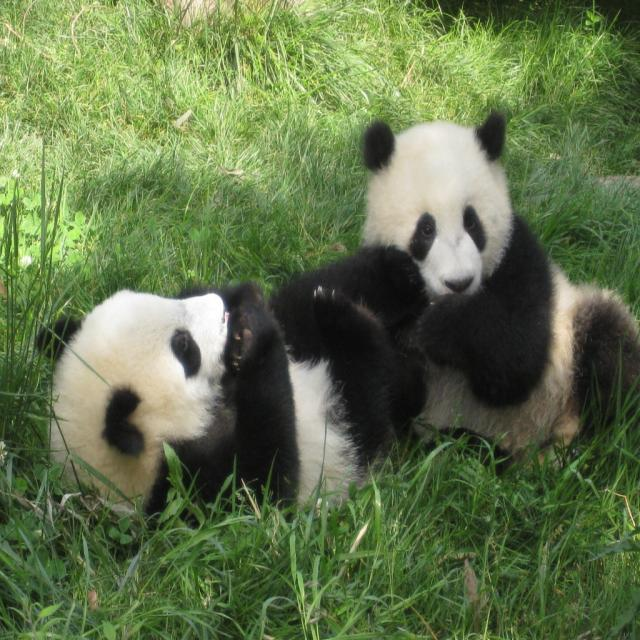panda: (276, 105, 640, 492), (27, 273, 404, 537)
